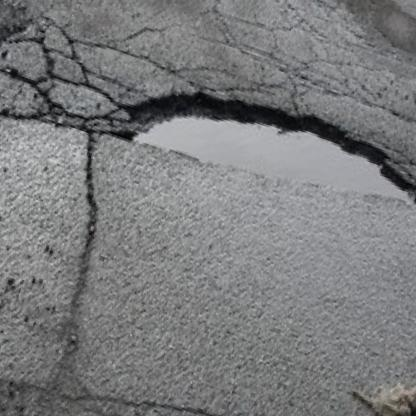pothole: (114, 57, 416, 241)
